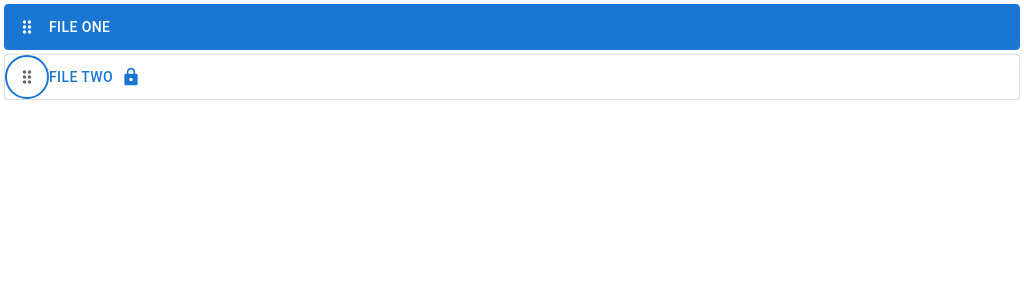
Test: EditorWorkingFiles › allows Enter to activate the menu without starting a keyboard drag
The width and height of the screenshot is (1024, 298).
Press Enter in the button named "Reorder File Two", box [5,55,49,99]
Click the button named "Reorder File Two": [27, 77] box [5,55,49,99]
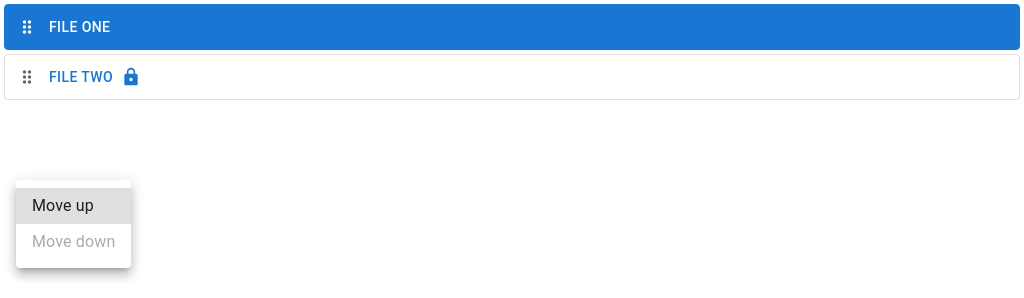
Expected: the menu is shown
Press Escape in the menu, box [16,180,131,268]
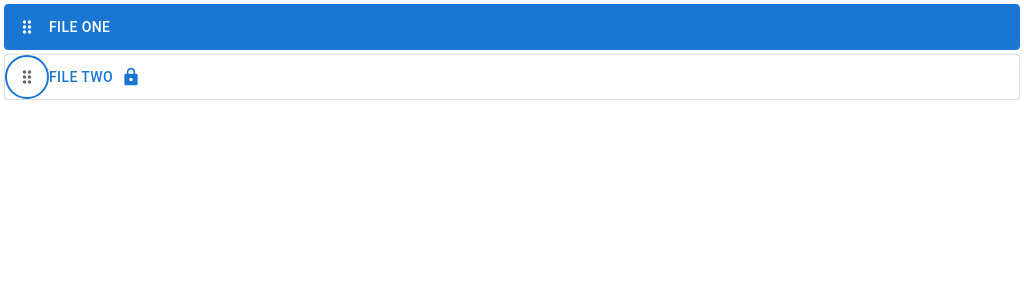
Expected: the menu is gone
